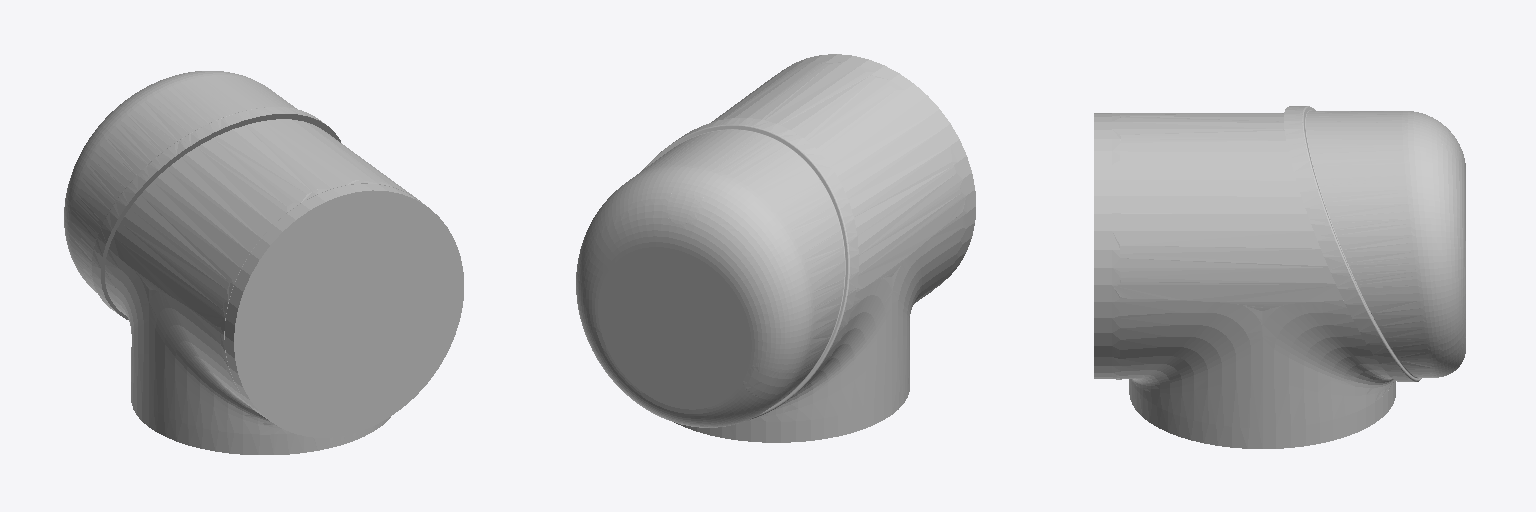
The model's file is wrist1.obj.
3 renders of one model, left to right at view 1: azimuth 30°, elevation 25°; view 2: azimuth 150°, elevation 25°; view 3: azimuth 270°, elevation 25°, orthographic.
Parts seen in each view (by area): view 1: Actor0_ActorShape0_0-Mesh.025, Actor1_ActorShape1_0-Mesh.019; view 2: Actor1_ActorShape1_0-Mesh.019, Actor0_ActorShape0_0-Mesh.025; view 3: Actor0_ActorShape0_0-Mesh.025, Actor1_ActorShape1_0-Mesh.019.
Part boxes in pixels (x1,y1,x2,y2): Actor0_ActorShape0_0-Mesh.025: (105, 119, 463, 454); Actor1_ActorShape1_0-Mesh.019: (64, 71, 340, 319); Actor1_ActorShape1_0-Mesh.019: (576, 118, 858, 427); Actor0_ActorShape0_0-Mesh.025: (674, 54, 975, 442); Actor0_ActorShape0_0-Mesh.025: (1094, 113, 1395, 448); Actor1_ActorShape1_0-Mesh.019: (1284, 106, 1465, 381).
Bounding box in the file's own units: 0.0775 × 0.0849 × 0.1047.